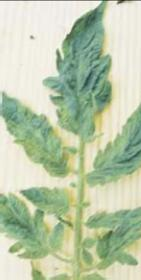Tomato leaf mosaic virus: (52, 5, 115, 143), (84, 98, 141, 186), (0, 188, 65, 260), (89, 208, 141, 273), (20, 186, 74, 216)
